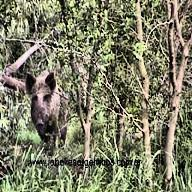boar: (18, 67, 83, 168)
